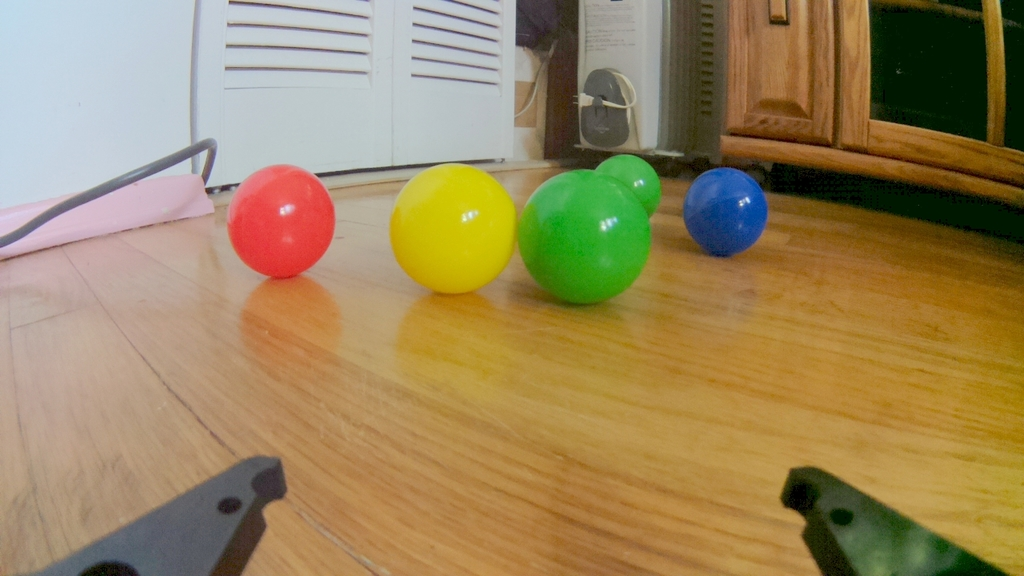ball: (518, 169, 652, 308)
